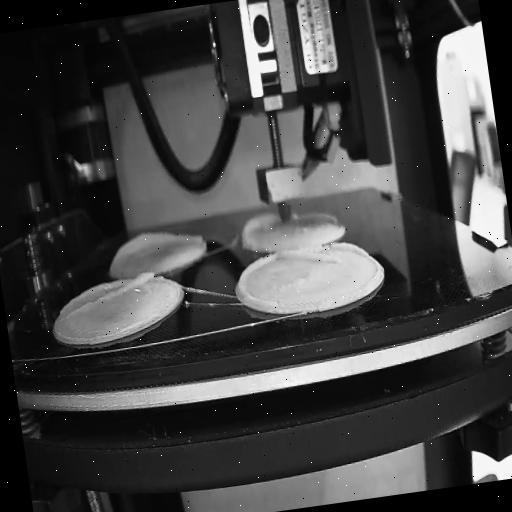over_extrusion: (58, 268, 160, 320), (108, 217, 205, 263), (234, 250, 288, 310), (286, 235, 370, 272), (238, 211, 282, 248), (296, 207, 342, 232)
